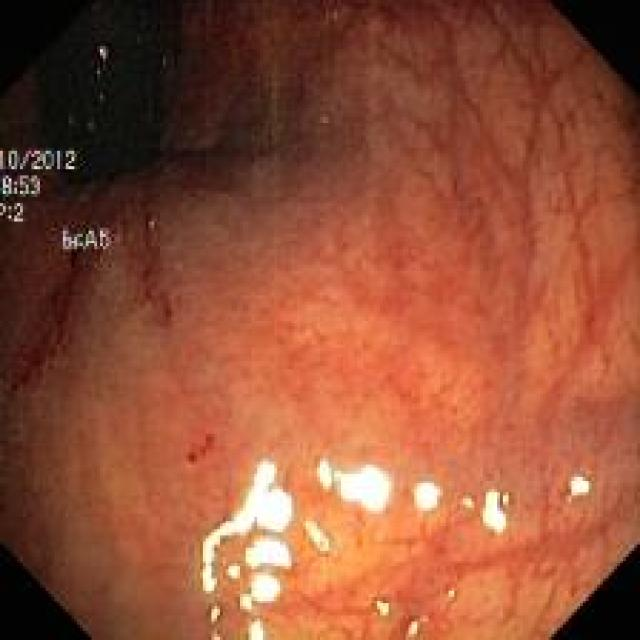ulcerative-colitis-grade-1: (2, 3, 639, 640)
